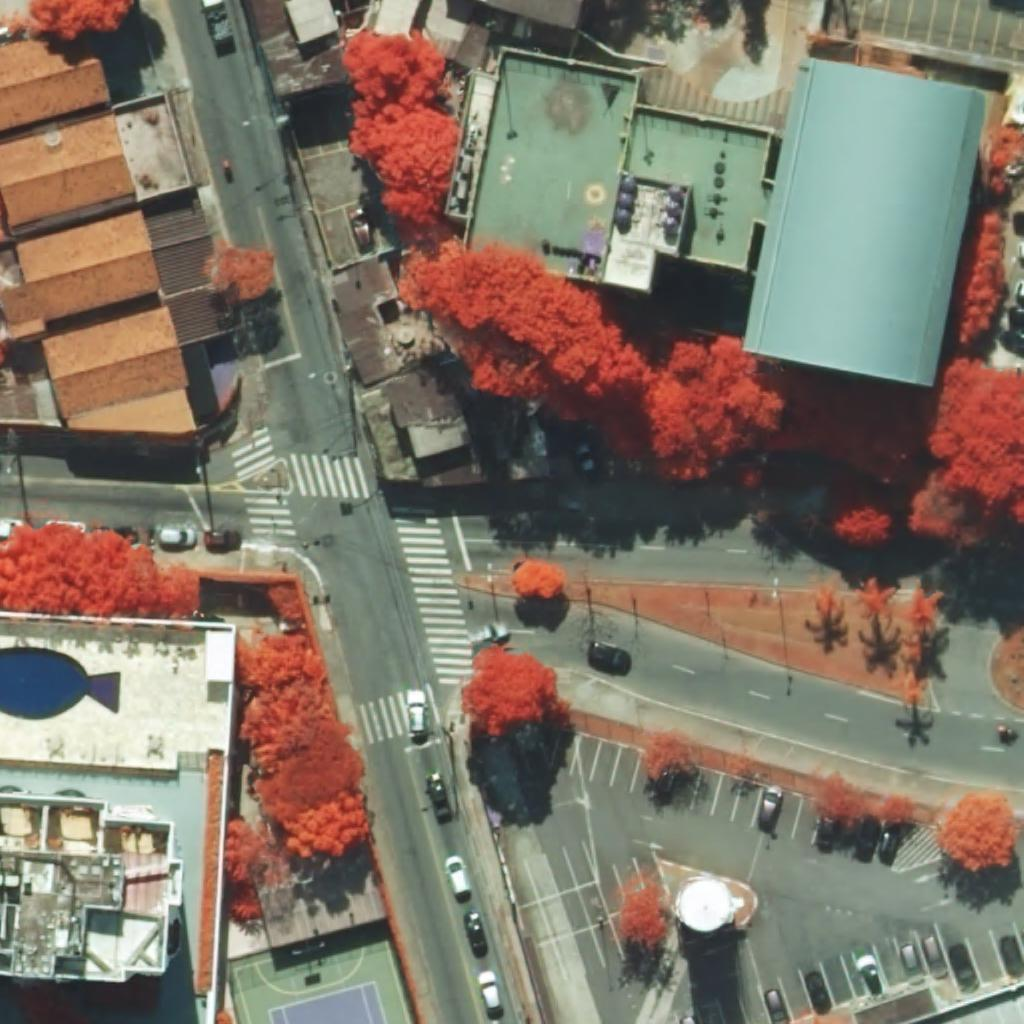pool: (0, 647, 121, 720)
